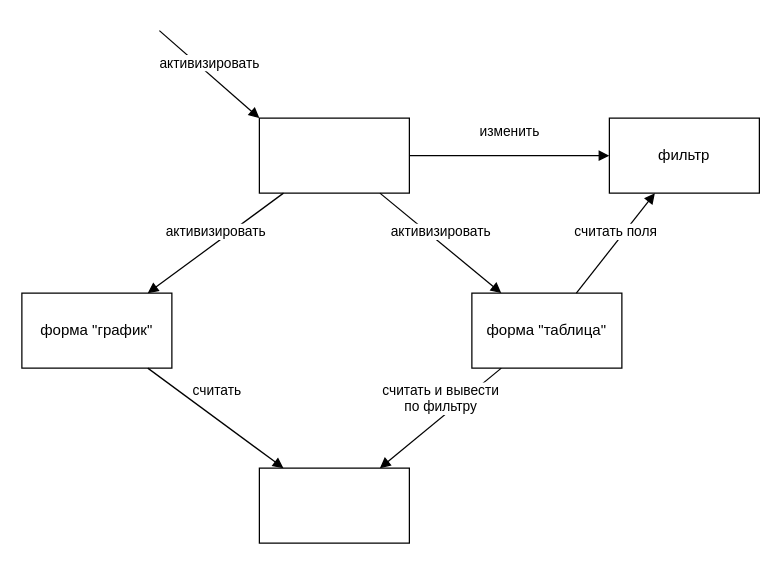
This 781x565 diagram has some shape labels left out. Each missing label, with the centre of its shape:
главная форма: pixel 333 155
файл: pixel 333 505
